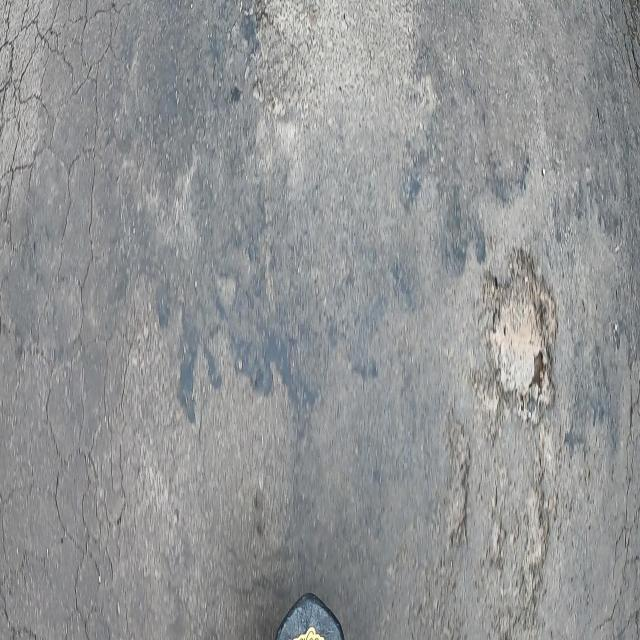Lubang: (474, 249, 558, 424)
